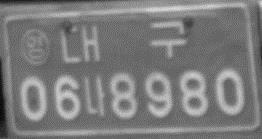0: (215, 68, 246, 117), (18, 75, 49, 122)
6: (53, 74, 82, 121)
8: (178, 69, 210, 119), (109, 72, 139, 120)
9: (143, 71, 173, 119)
나: (83, 74, 107, 120)
대구_D: (58, 19, 188, 65)
영: (19, 28, 52, 65)
